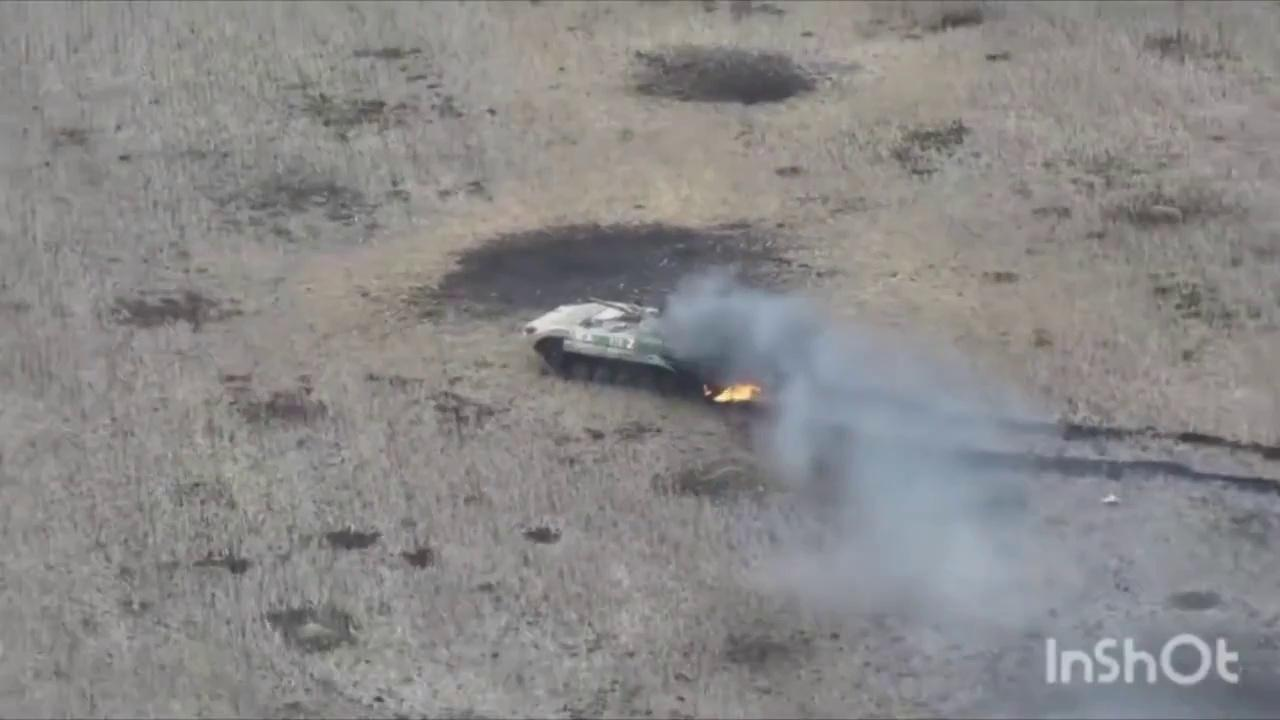vehicle: (520, 300, 740, 397)
